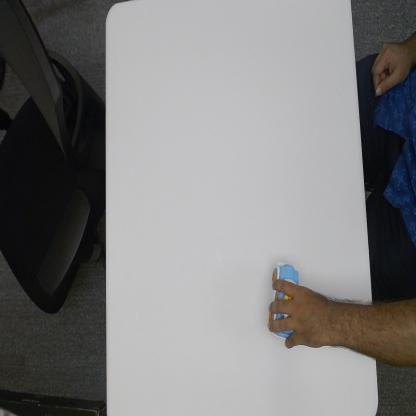Arm: (326, 298, 375, 360)
Car: (268, 260, 298, 341)
Hand: (268, 276, 325, 350)
